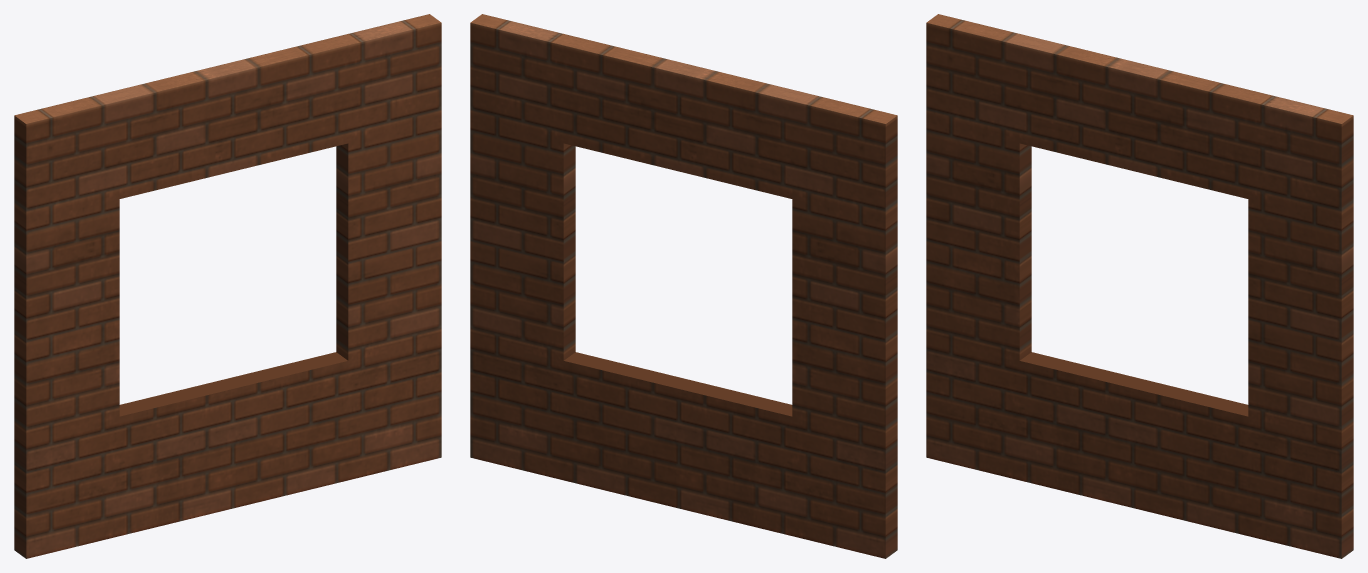
Rendered from wall5_8.fbx.
3 renders of one model, left to right at view 1: azimuth 30°, elevation 25°; view 2: azimuth 150°, elevation 25°; view 3: azimuth 330°, elevation 25°, orthographic.
Parts seen in each view (by area): view 1: wall5_brick_red_h; view 2: wall5_brick_red_h; view 3: wall5_brick_red_h.
Boxes of the visible parts, box(x1,y1,x2,y2) form: wall5_brick_red_h: box(14, 14, 441, 558); wall5_brick_red_h: box(470, 14, 897, 558); wall5_brick_red_h: box(926, 14, 1353, 558).
Size of the model in its own units: 400 by 400 by 20.
